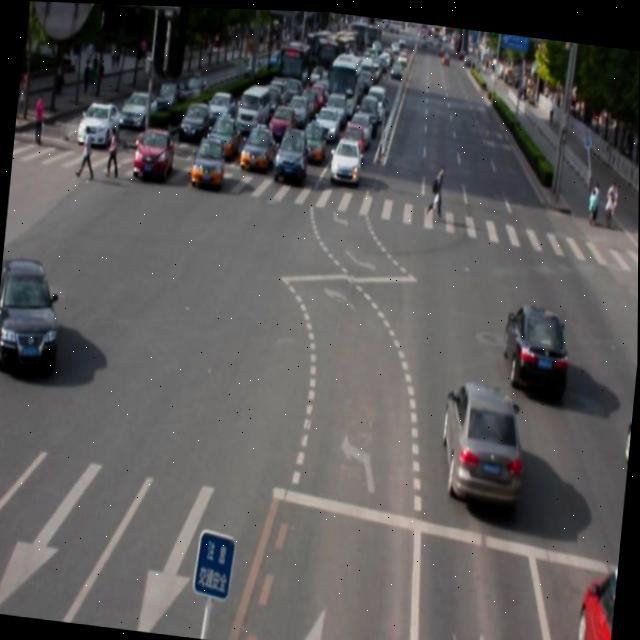car: (437, 371, 528, 505), (0, 253, 65, 373), (501, 295, 572, 393), (571, 554, 619, 640)
